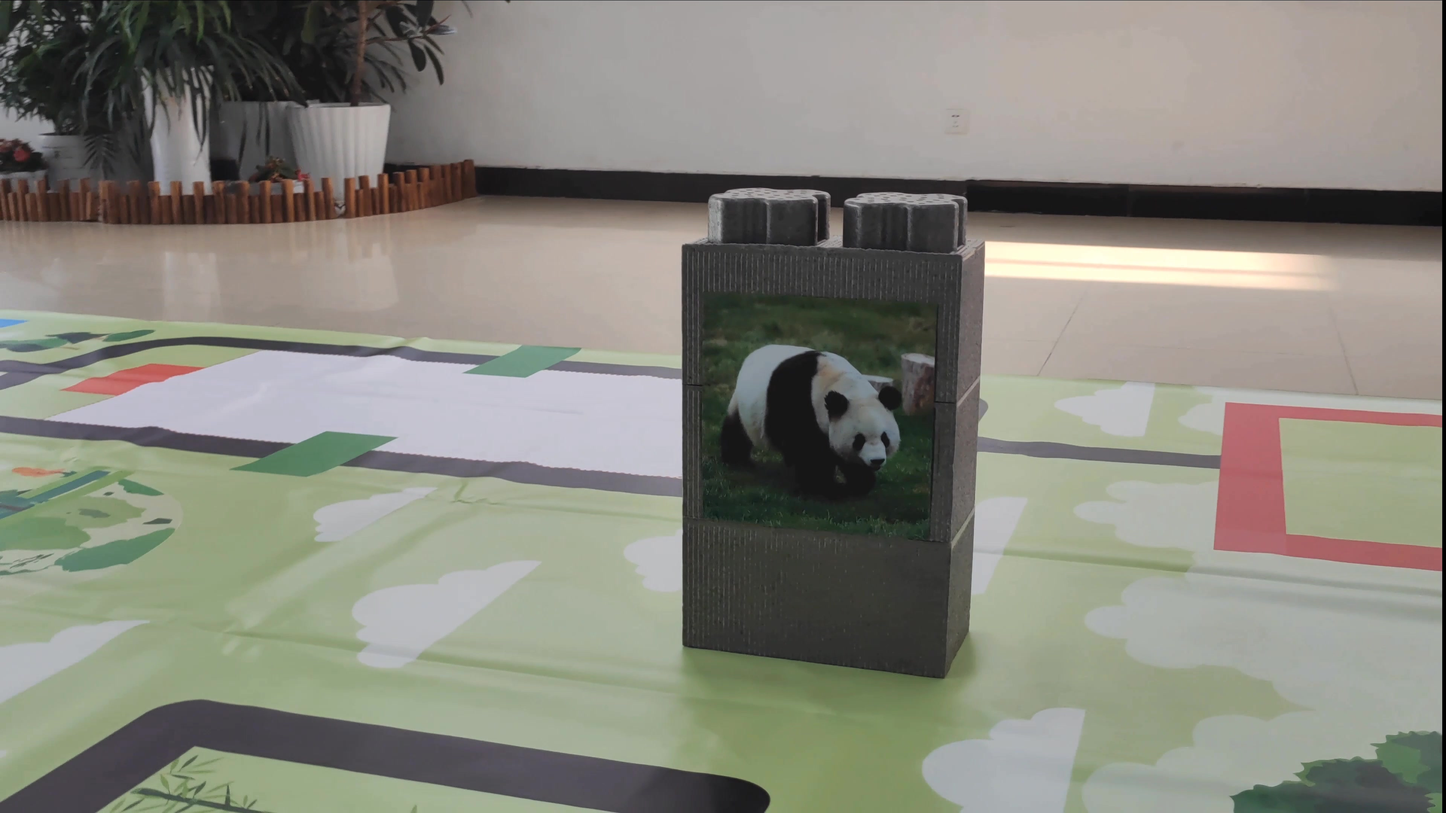panda: (700, 314, 921, 525)
